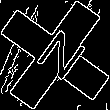N_SW: (24, 23, 86, 87)
